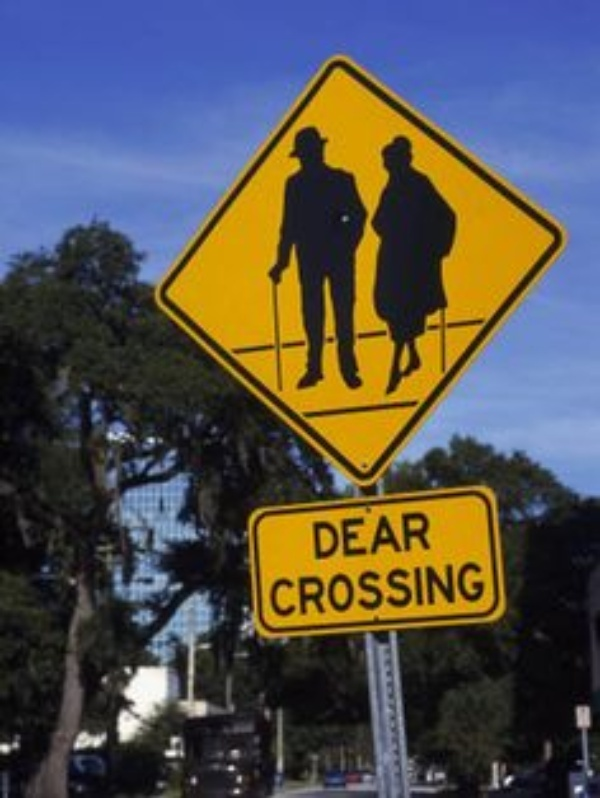text: (273, 560, 288, 621), (289, 560, 304, 621), (305, 560, 320, 621), (321, 560, 336, 621), (337, 560, 352, 621), (353, 560, 368, 621), (369, 560, 384, 621), (385, 560, 400, 621), (401, 560, 416, 621), (417, 560, 432, 621), (433, 560, 448, 621), (449, 560, 464, 621), (465, 560, 480, 621), (321, 509, 336, 562), (337, 509, 352, 562), (353, 509, 368, 562), (369, 509, 384, 562), (385, 509, 400, 562), (401, 509, 416, 562), (417, 509, 432, 562), (481, 560, 489, 621), (313, 509, 320, 562), (267, 560, 272, 621), (433, 509, 438, 562)
